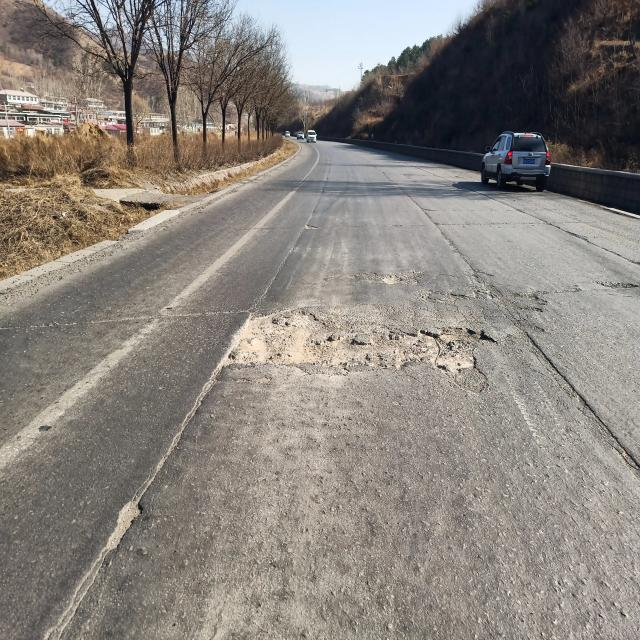Pothole: (225, 306, 492, 388)
